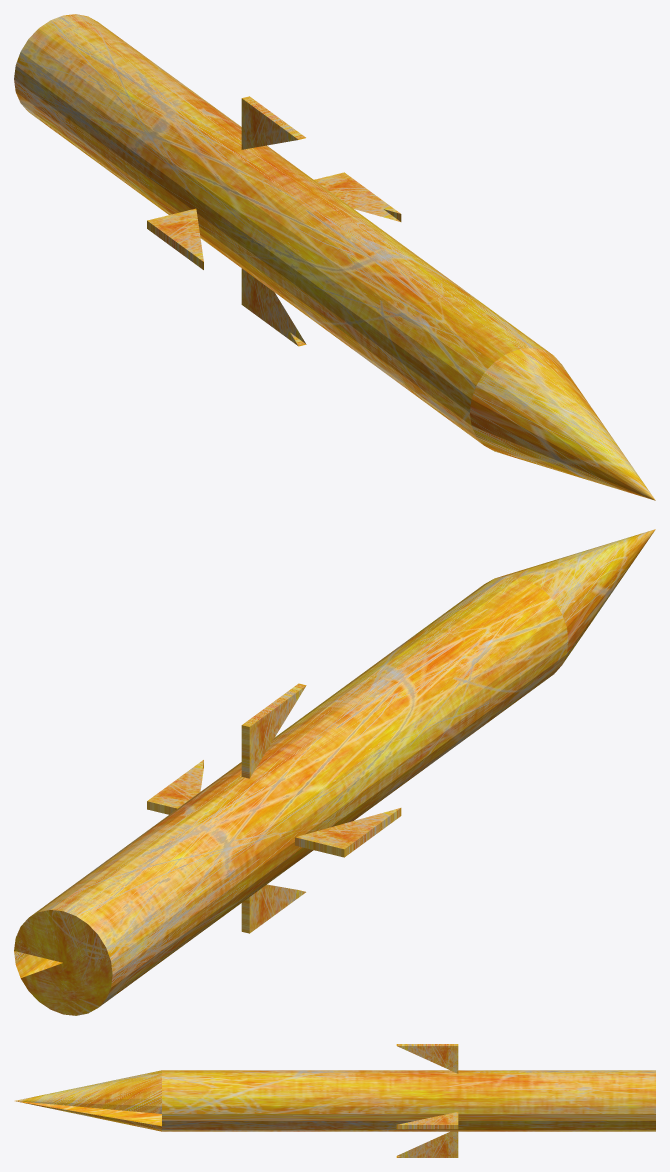
File: missile.obj
The picture shows the model from 3 angles, top to bottom: view 1: azimuth 30°, elevation 25°; view 2: azimuth 150°, elevation 25°; view 3: azimuth 270°, elevation 25°; orthographic projection. The views are drawn at different scales.
Size of the model in its own units: 1 by 1 by 5.2.
Materials: 1 (1 with a texture image).
